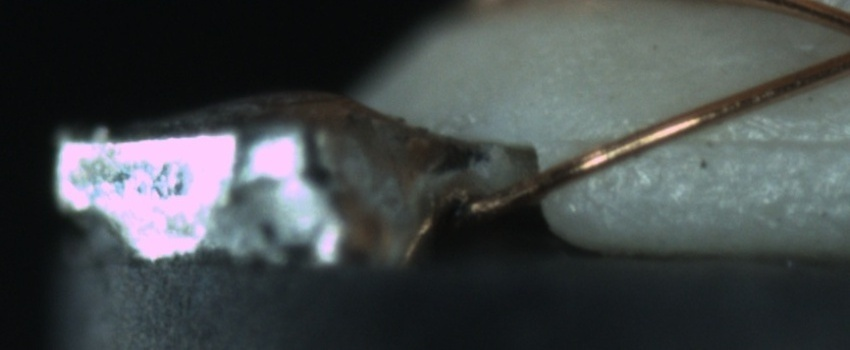CL: (834, 14, 850, 70)
DL: (637, 111, 850, 170)
